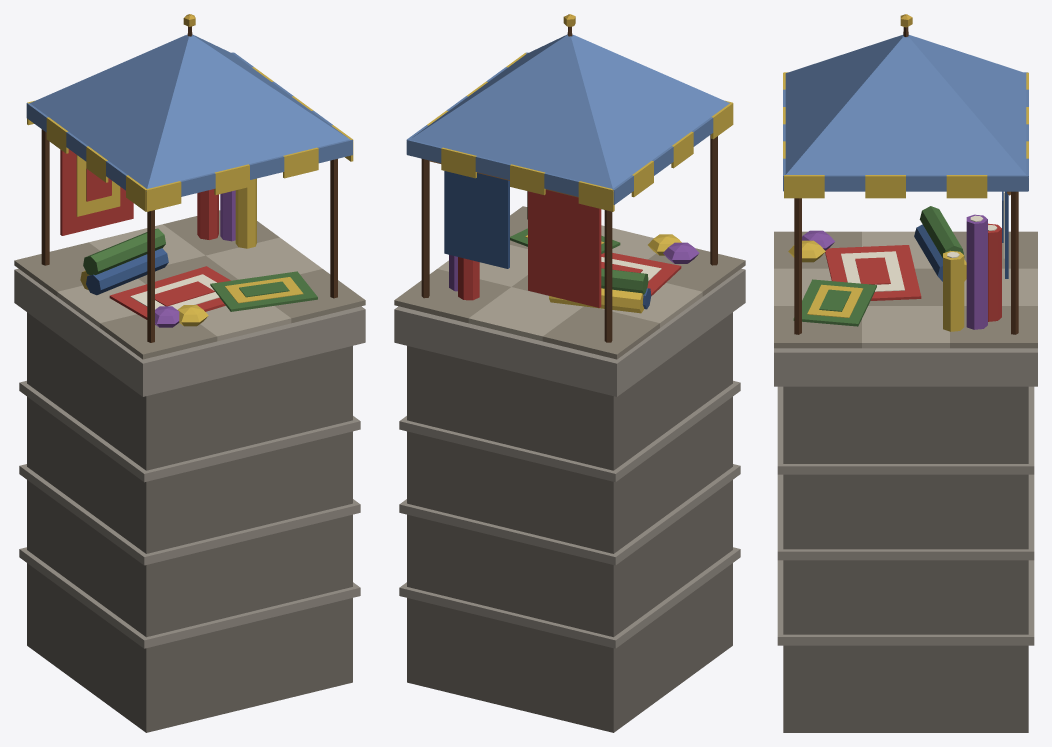
Rendered from decor_rug_tent.glb.
3 views of the same model, side by side, from view 1: azimuth 30°, elevation 25°; view 2: azimuth 150°, elevation 25°; view 3: azimuth 270°, elevation 25° (orthographic). The views are drawn at different scales.
Visible parts, largest first — view 1: decor_rug_tent; view 2: decor_rug_tent; view 3: decor_rug_tent.
Boxes of the visible parts, box(x1,y1,x2,y2) form: decor_rug_tent: box(14, 14, 365, 732); decor_rug_tent: box(394, 14, 745, 732); decor_rug_tent: box(774, 14, 1037, 732).
Bounding box in the file's own units: 2.8 × 7.81 × 2.8.
